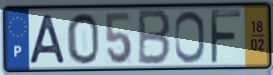5: (103, 11, 134, 67)
A: (27, 13, 68, 67)
B: (136, 8, 172, 68)
F: (209, 8, 244, 66)
O: (65, 12, 101, 66), (173, 10, 207, 65)
